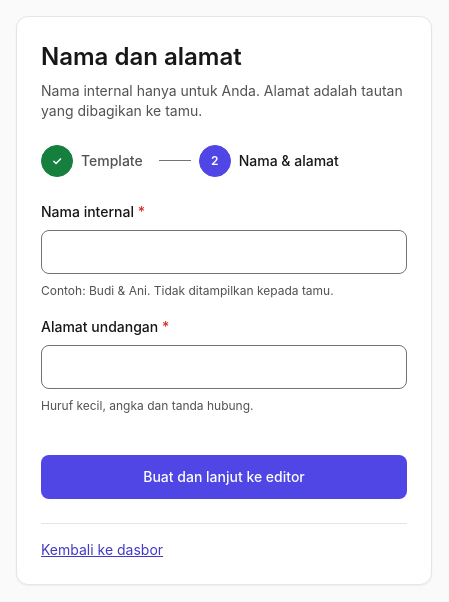
Test case: the creation wizard › checks availability before submission (DoD 2)
The image size is (449, 602).
Type "budi-dan-ani" into the field labelled "Alamat undangan *" at x=224, y=366, box [41,344,407,388]
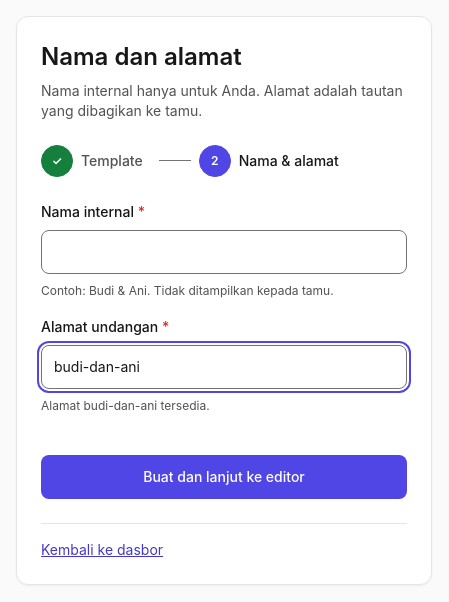
Result: the text "Alamat budi-dan-ani tersedia." is shown at [41,398,210,412]
